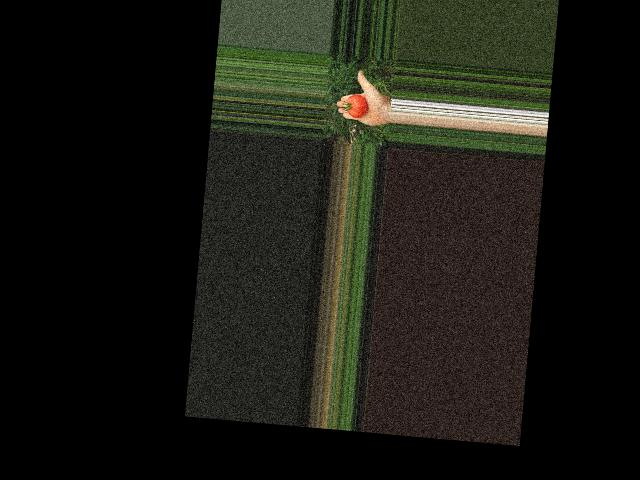tomato: (346, 93, 368, 119)
